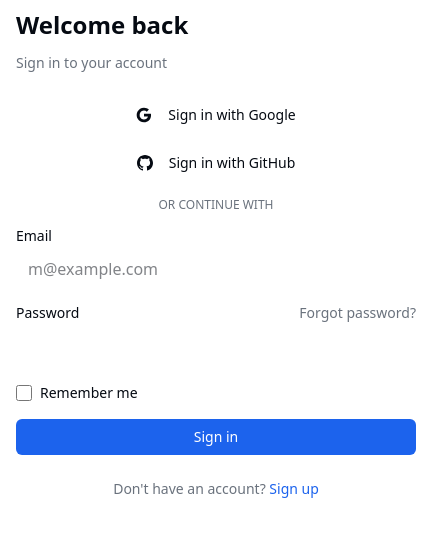
Test: LoginForm › validation › should show error when email is cleared
The image size is (433, 543).
Type "a" into the field labelled "Email".
click(216, 269); type("a")  # box [16,251,416,287]
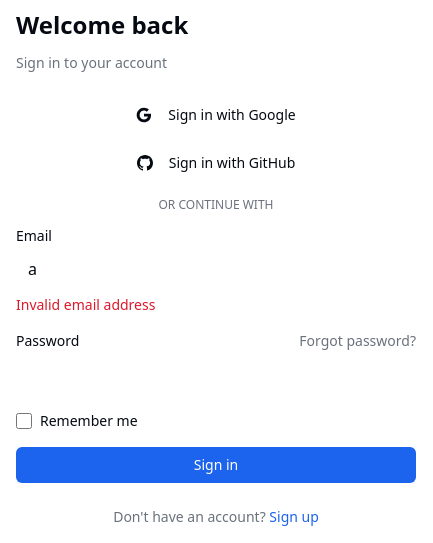
Clear the field labelled "Email" at [216, 269], box [16,251,416,287]
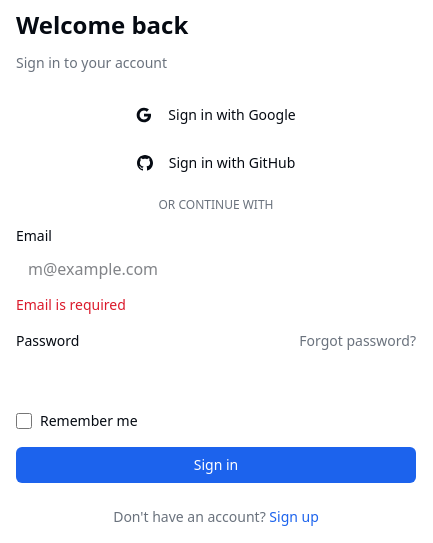
Result: the text "Email is required" is shown at [16,295,126,314]
